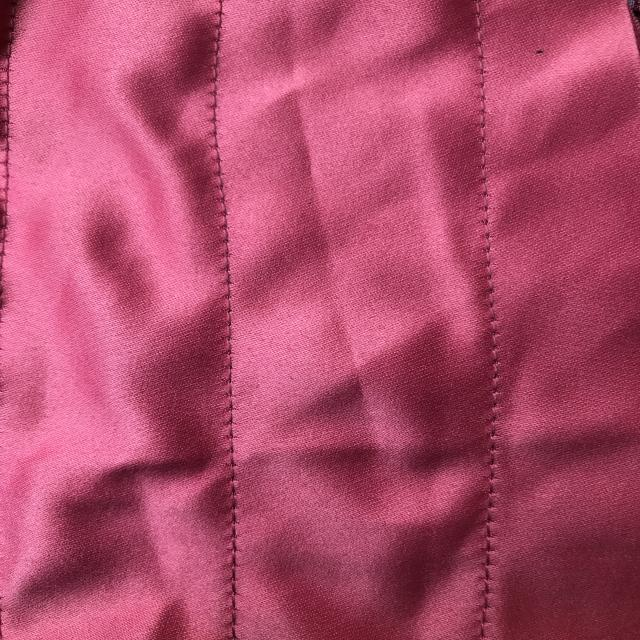good: (460, 165, 512, 332)
